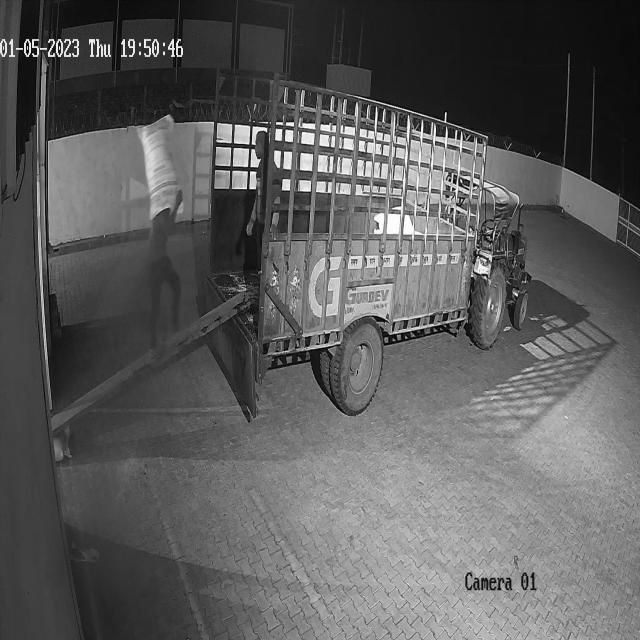sack: (137, 112, 181, 220)
